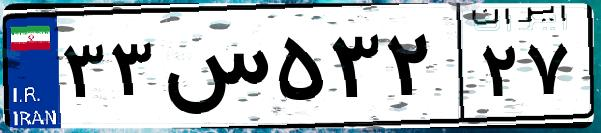2: (385, 28, 445, 110), (475, 38, 525, 113)
3: (330, 28, 385, 110), (57, 26, 110, 100), (110, 28, 158, 98)
5: (270, 28, 330, 110)
7: (525, 38, 570, 115)
س: (158, 20, 270, 120)
